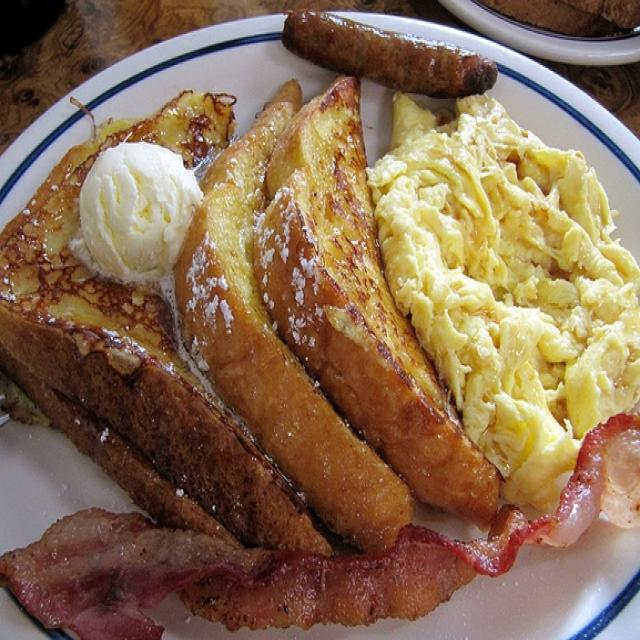鸡蛋料理: (25, 42, 619, 608)
